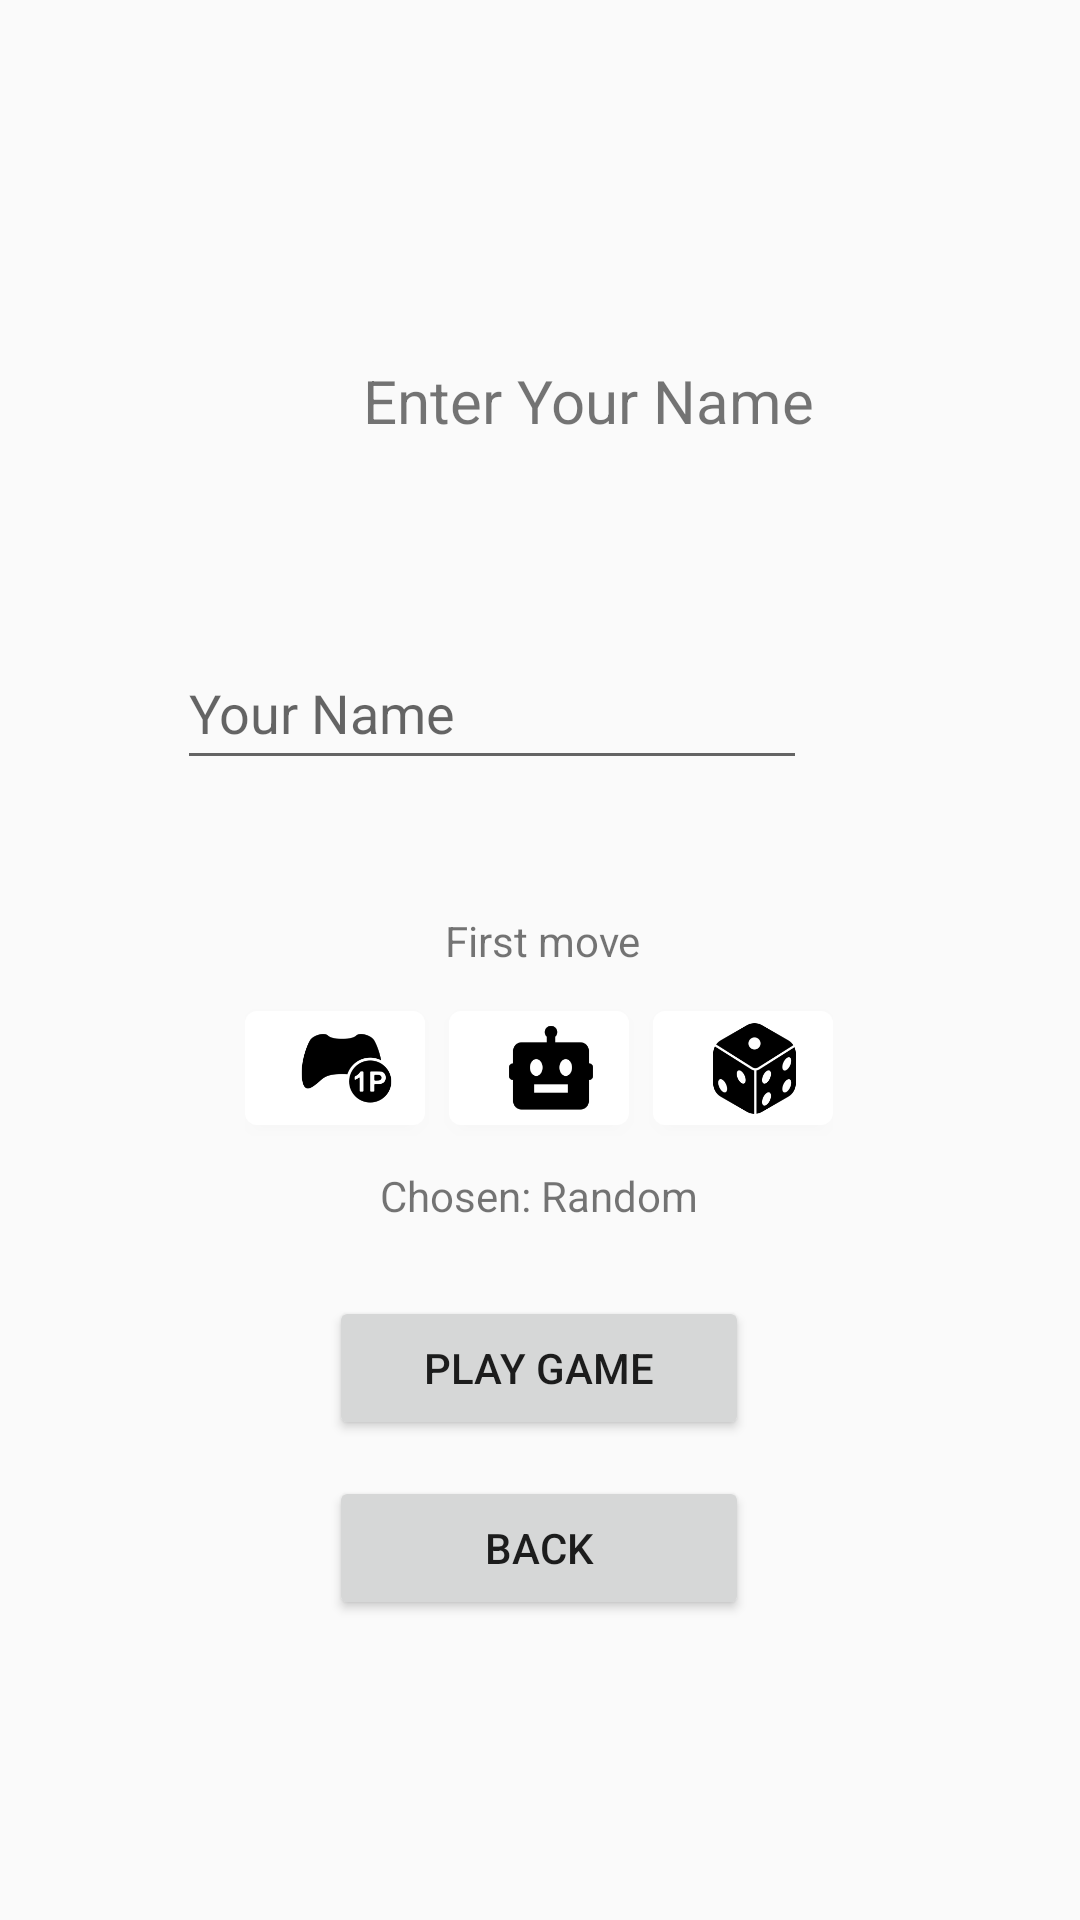

Icon click points for this 1080px x 1920px phone screenshot, format (x,y):
computer: (551,1068)
dice: (754,1068)
player one: (346,1068)
